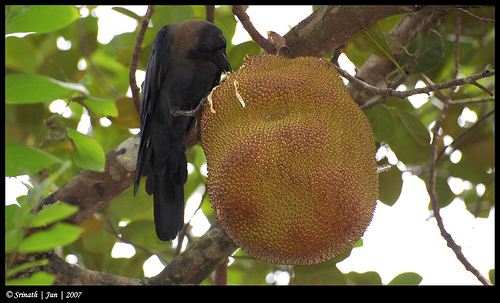jackfruit: (200, 54, 380, 267)
